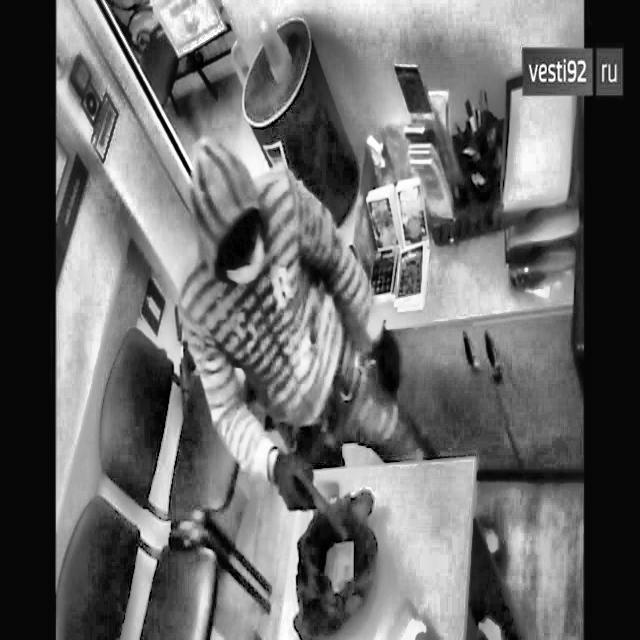robbery: (178, 129, 540, 639)
